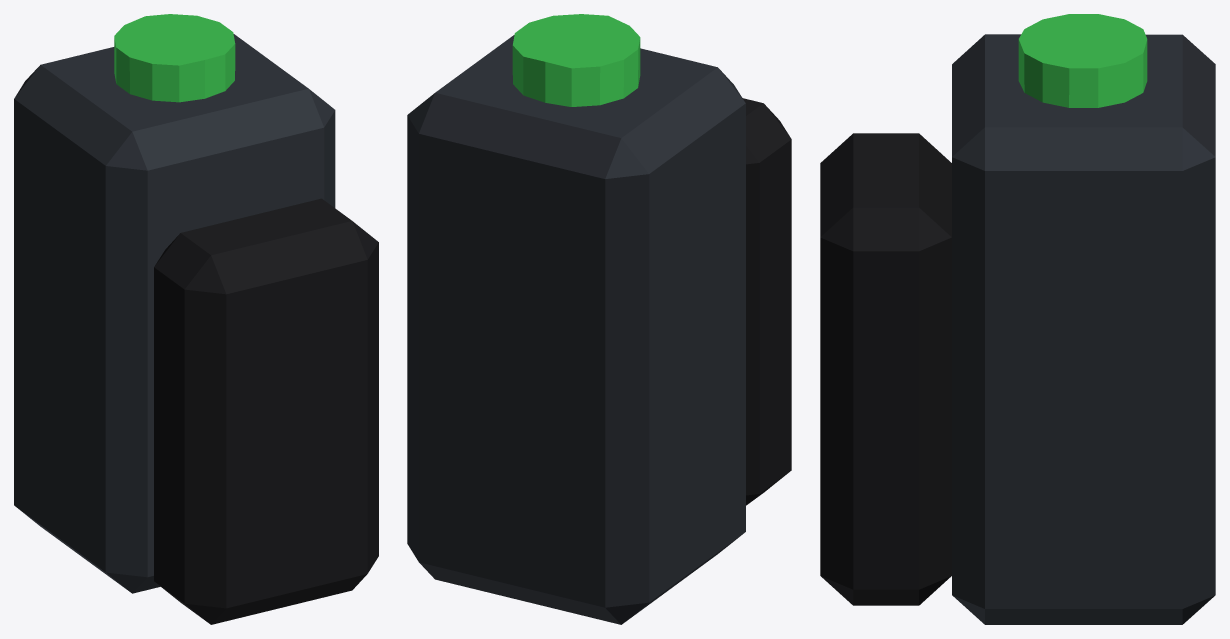
Rendered from laser.glb.
3 renders of one model, left to right at view 1: azimuth 30°, elevation 25°; view 2: azimuth 150°, elevation 25°; view 3: azimuth 270°, elevation 25°, orthographic. The views are drawn at different scales.
Visible parts, largest first — view 1: laser; view 2: laser; view 3: laser.
Boxes of the visible parts, x1,y1,x2,y2 form: laser: (14,14,378,624); laser: (407,14,791,624); laser: (820,14,1215,624).
Bounding box in the file's own units: 0.026 × 0.0542 × 0.036.
